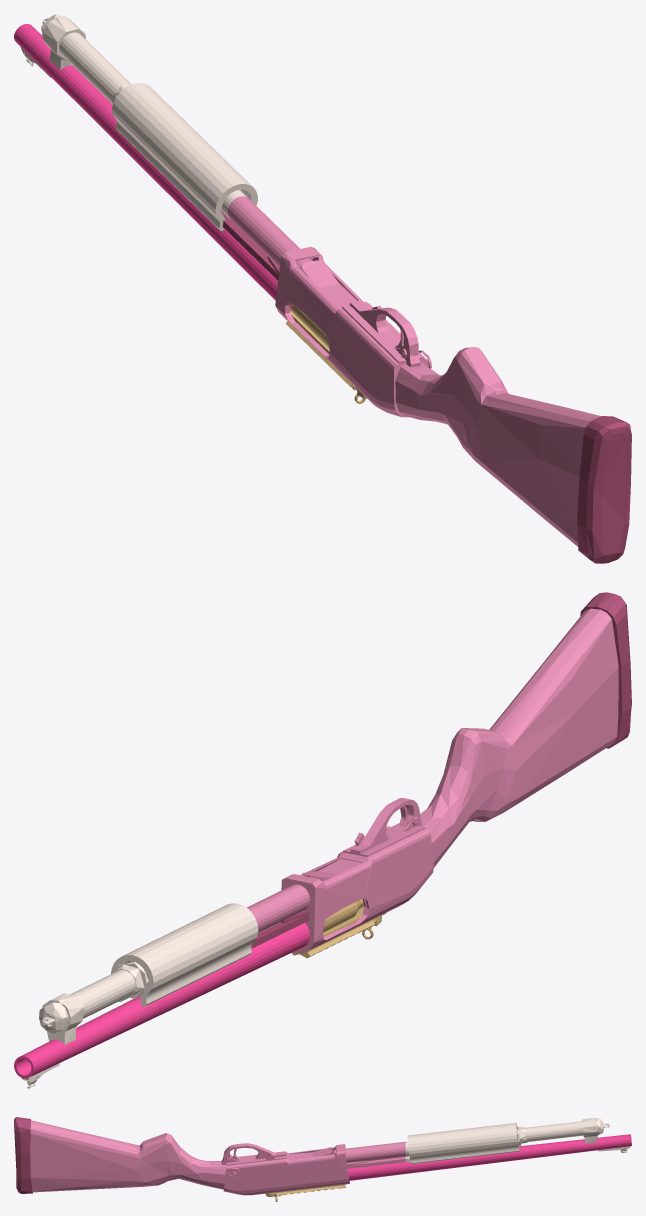
The model's file is Shotgun_M870.obj.
3 renders of one model, top to bottom at view 1: azimuth 30°, elevation 25°; view 2: azimuth 150°, elevation 25°; view 3: azimuth 270°, elevation 25°, orthographic. The views are drawn at different scales.
Parts seen in each view (by area): view 1: Body, Panel, Grip, Accent, Hardware, Pump; view 2: Body, Panel, Accent, Grip, Hardware, Pump; view 3: Body, Panel, Accent, Grip, Hardware.
Part boxes in pixels (bbox=[...]): Body: bbox=[228, 196, 600, 546]; Panel: bbox=[20, 14, 257, 230]; Grip: bbox=[577, 416, 631, 563]; Accent: bbox=[14, 24, 290, 311]; Hardware: bbox=[285, 302, 366, 403]; Pump: bbox=[221, 210, 294, 309]; Body: bbox=[247, 608, 618, 952]; Panel: bbox=[21, 903, 258, 1088]; Accent: bbox=[14, 923, 310, 1078]; Grip: bbox=[580, 592, 631, 748]; Hardware: bbox=[292, 898, 386, 958]; Pump: bbox=[251, 910, 309, 948]; Body: bbox=[30, 1120, 405, 1195]; Panel: bbox=[405, 1118, 630, 1163]; Accent: bbox=[347, 1134, 631, 1180]; Grip: bbox=[14, 1117, 32, 1193]; Hardware: bbox=[265, 1184, 345, 1201].
Bounding box in the file's own units: 0.1253 × 0.4368 × 2.9.
